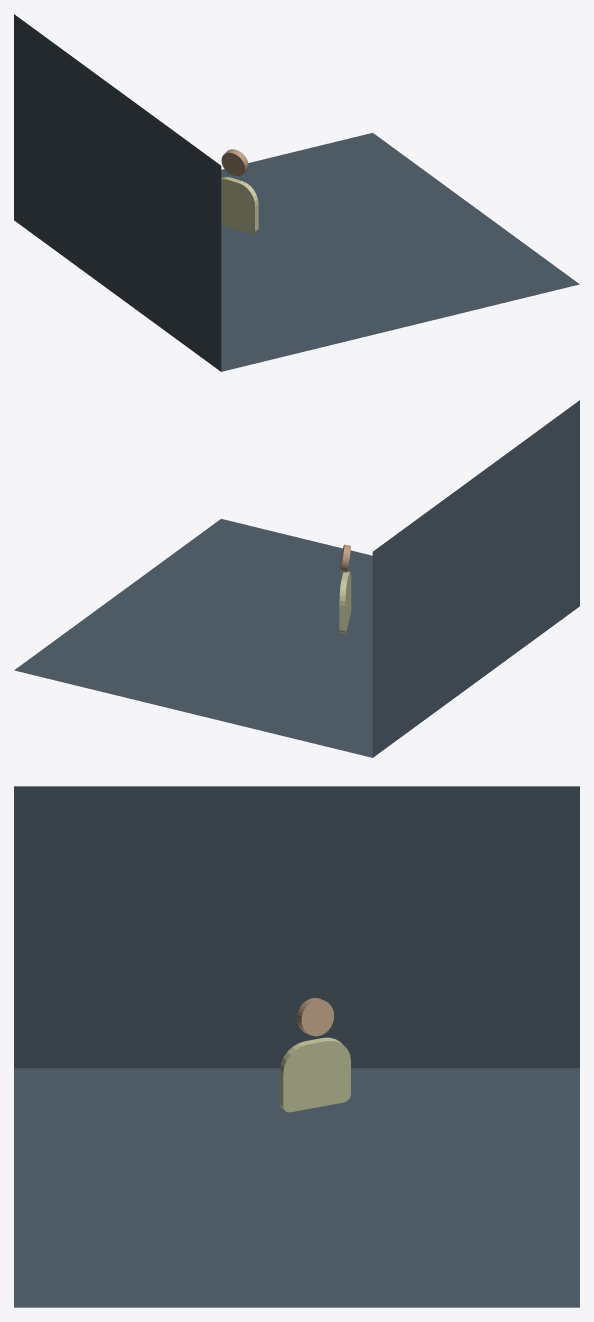
File: user.glb
The picture shows the model from 3 angles, top to bottom: view 1: azimuth 30°, elevation 25°; view 2: azimuth 150°, elevation 25°; view 3: azimuth 270°, elevation 25°; orthographic projection. The views are drawn at different scales.
Parts seen in each view (by area): view 1: bg, user; view 2: bg, user; view 3: bg, user.
Boxes of the visible parts, x1,y1,x2,y2 form: bg: (14,14,579,371); user: (221,149,258,234); bg: (14,400,579,757); user: (339,544,351,633); bg: (14,786,579,1307); user: (280,998,350,1112).
Bounding box in the file's own units: 8 × 4.39 × 8.
